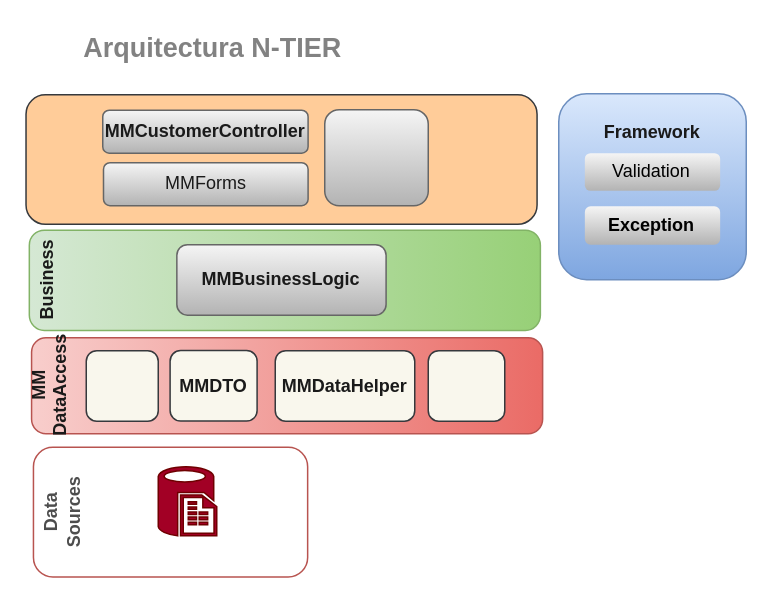
This 774x603 diagram has some shape labels left out. Here are the shapes that lost their labels. From the top down, the centre of each, then its label:
At (280,158): "MMUser Interface".
At (375,157): "MMGUI".
At (121,385): "MMDAO".
At (466,385): "MMIDAO".
At (187,500): "SQLITE".
